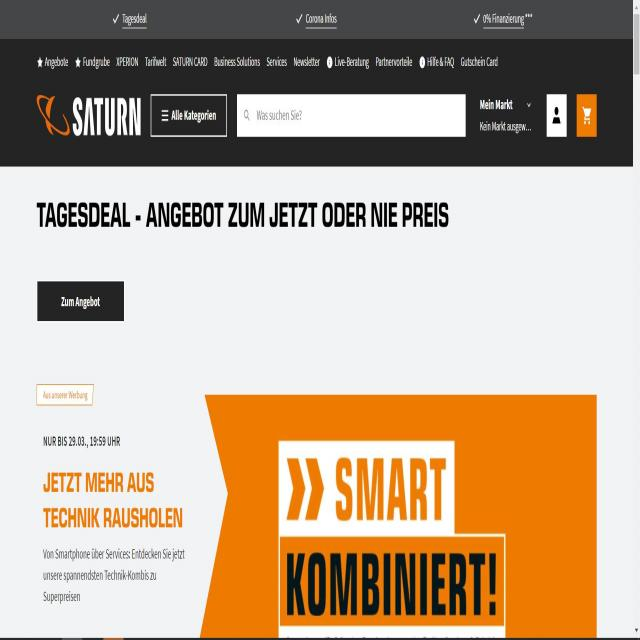button: (37, 281, 124, 322), (150, 93, 227, 137), (547, 93, 567, 137), (577, 93, 597, 136)
input: (238, 94, 466, 138)
